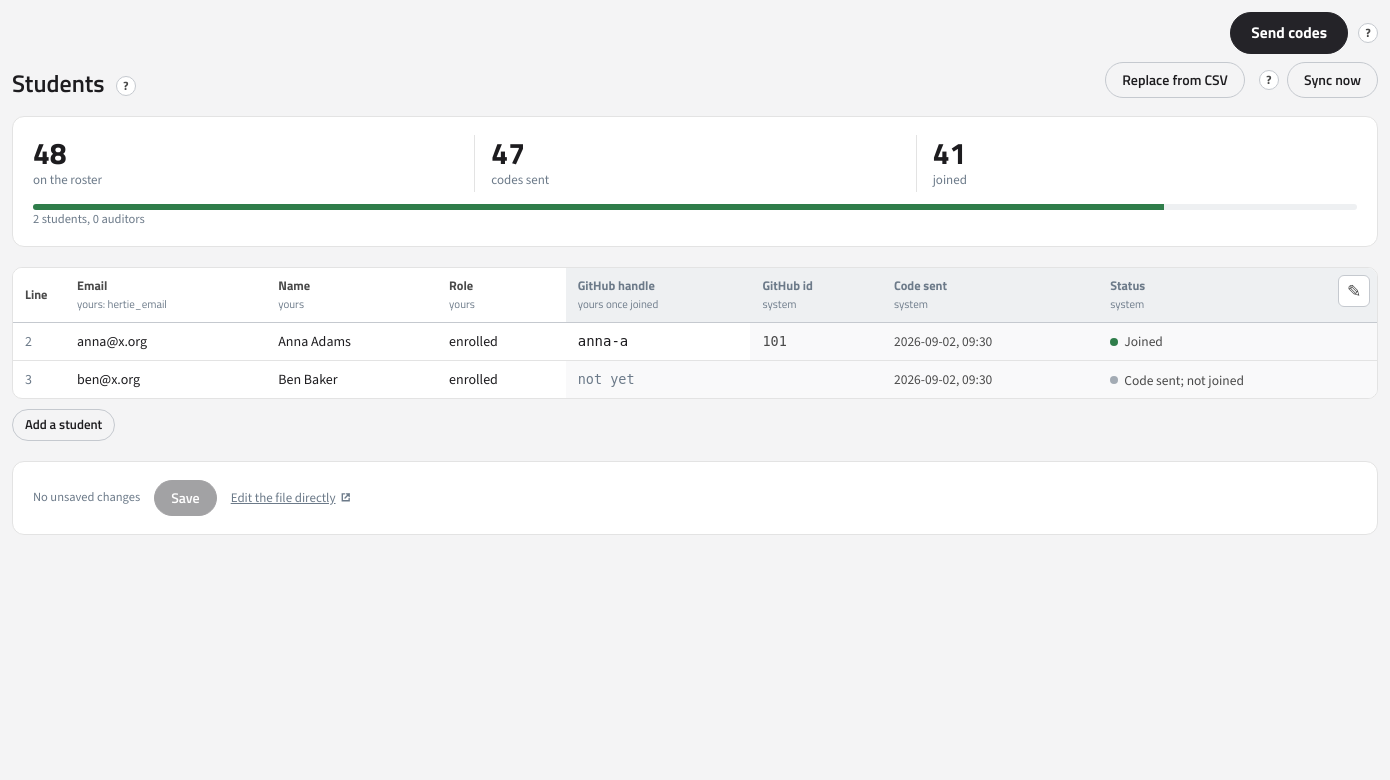
Test: Save on the Students grid › opens the grid for editing when a student is added
Click the button "Add a student".
click(64, 425)  # box [12,409,115,441]
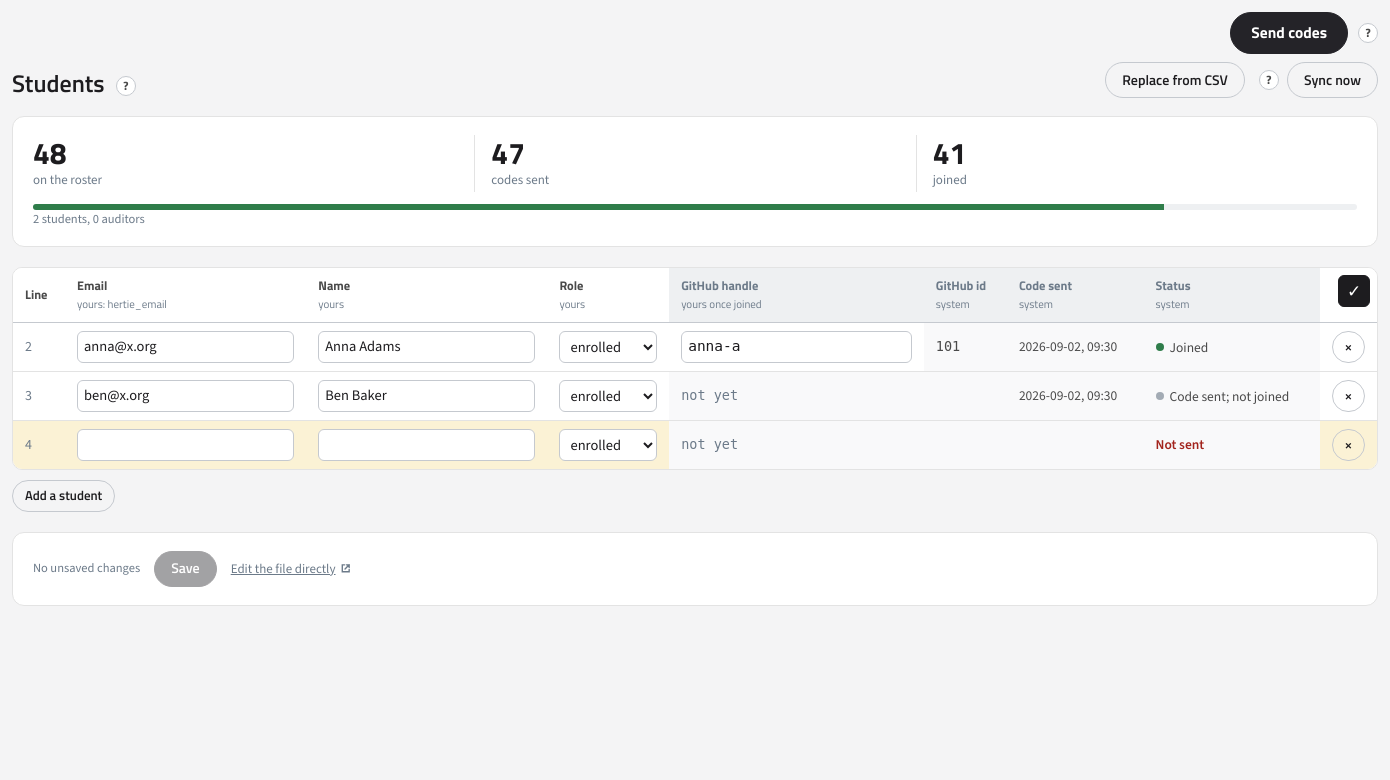
Check: the button "✓" is shown, box [1338,275,1370,307]
Check: the field named "Email, line 4" is shown, box [77,428,294,460]
